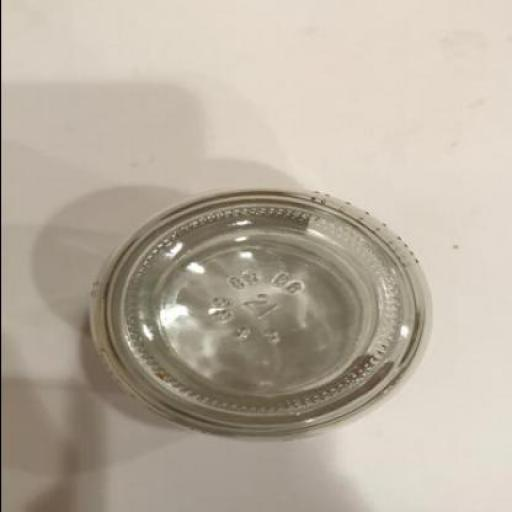glass: (88, 191, 430, 439)
